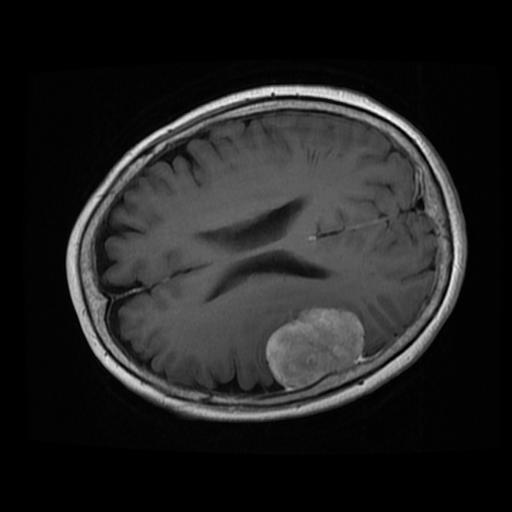meningioma: (265, 307, 362, 388)
